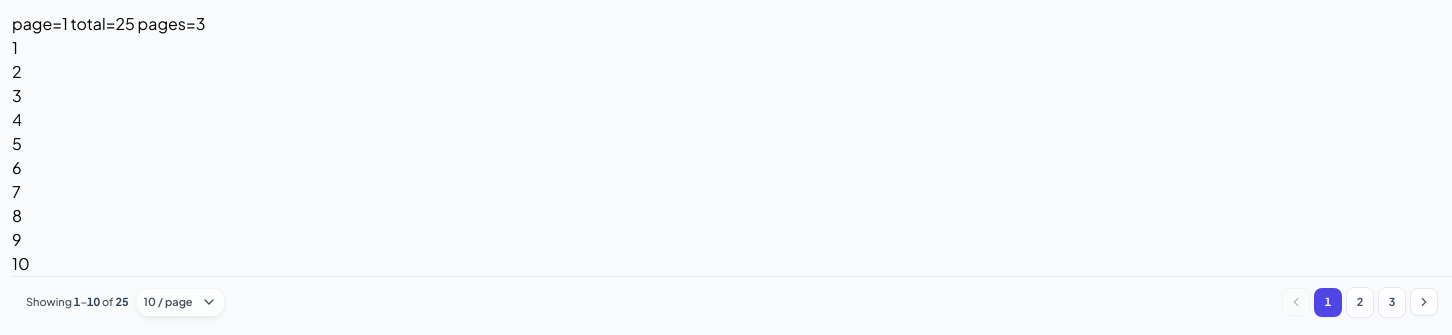
it: usePagination › clamps rather than painting an empty page when a filter narrows the list
Click the button named "Page 3" at x=1392, y=302, box [1378, 287, 1406, 318]
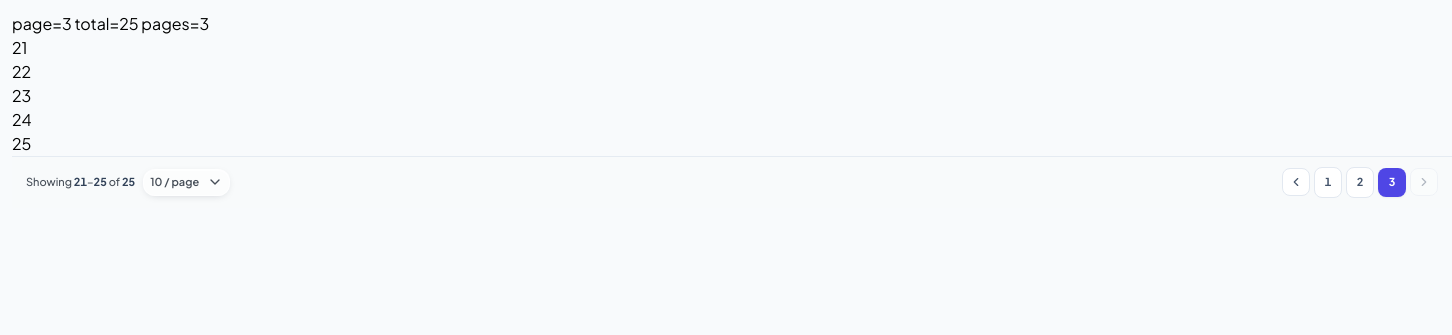
Now the text with test id "meta" reads "page=3 total=25 pages=3", box [12, 13, 209, 34]
